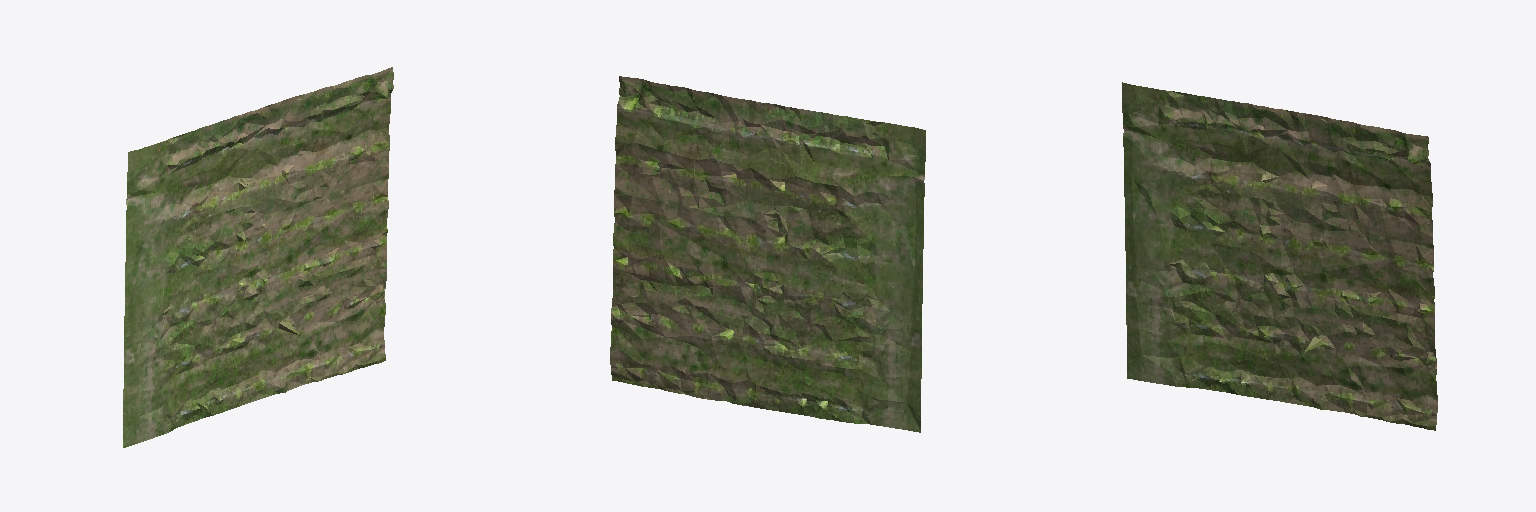
3 views of the same model, side by side, from view 1: azimuth 30°, elevation 25°; view 2: azimuth 150°, elevation 25°; view 3: azimuth 330°, elevation 25° (orthographic).
Visible parts, largest first — view 1: grp1; view 2: grp1; view 3: grp1.
Boxes of the visible parts, <box> form: grp1: <box>123,67,393,447</box>; grp1: <box>610,76,925,432</box>; grp1: <box>1122,82,1437,430</box>.
Size of the model in its own units: 10 by 10 by 1.81.
1 materials, 1 textured.